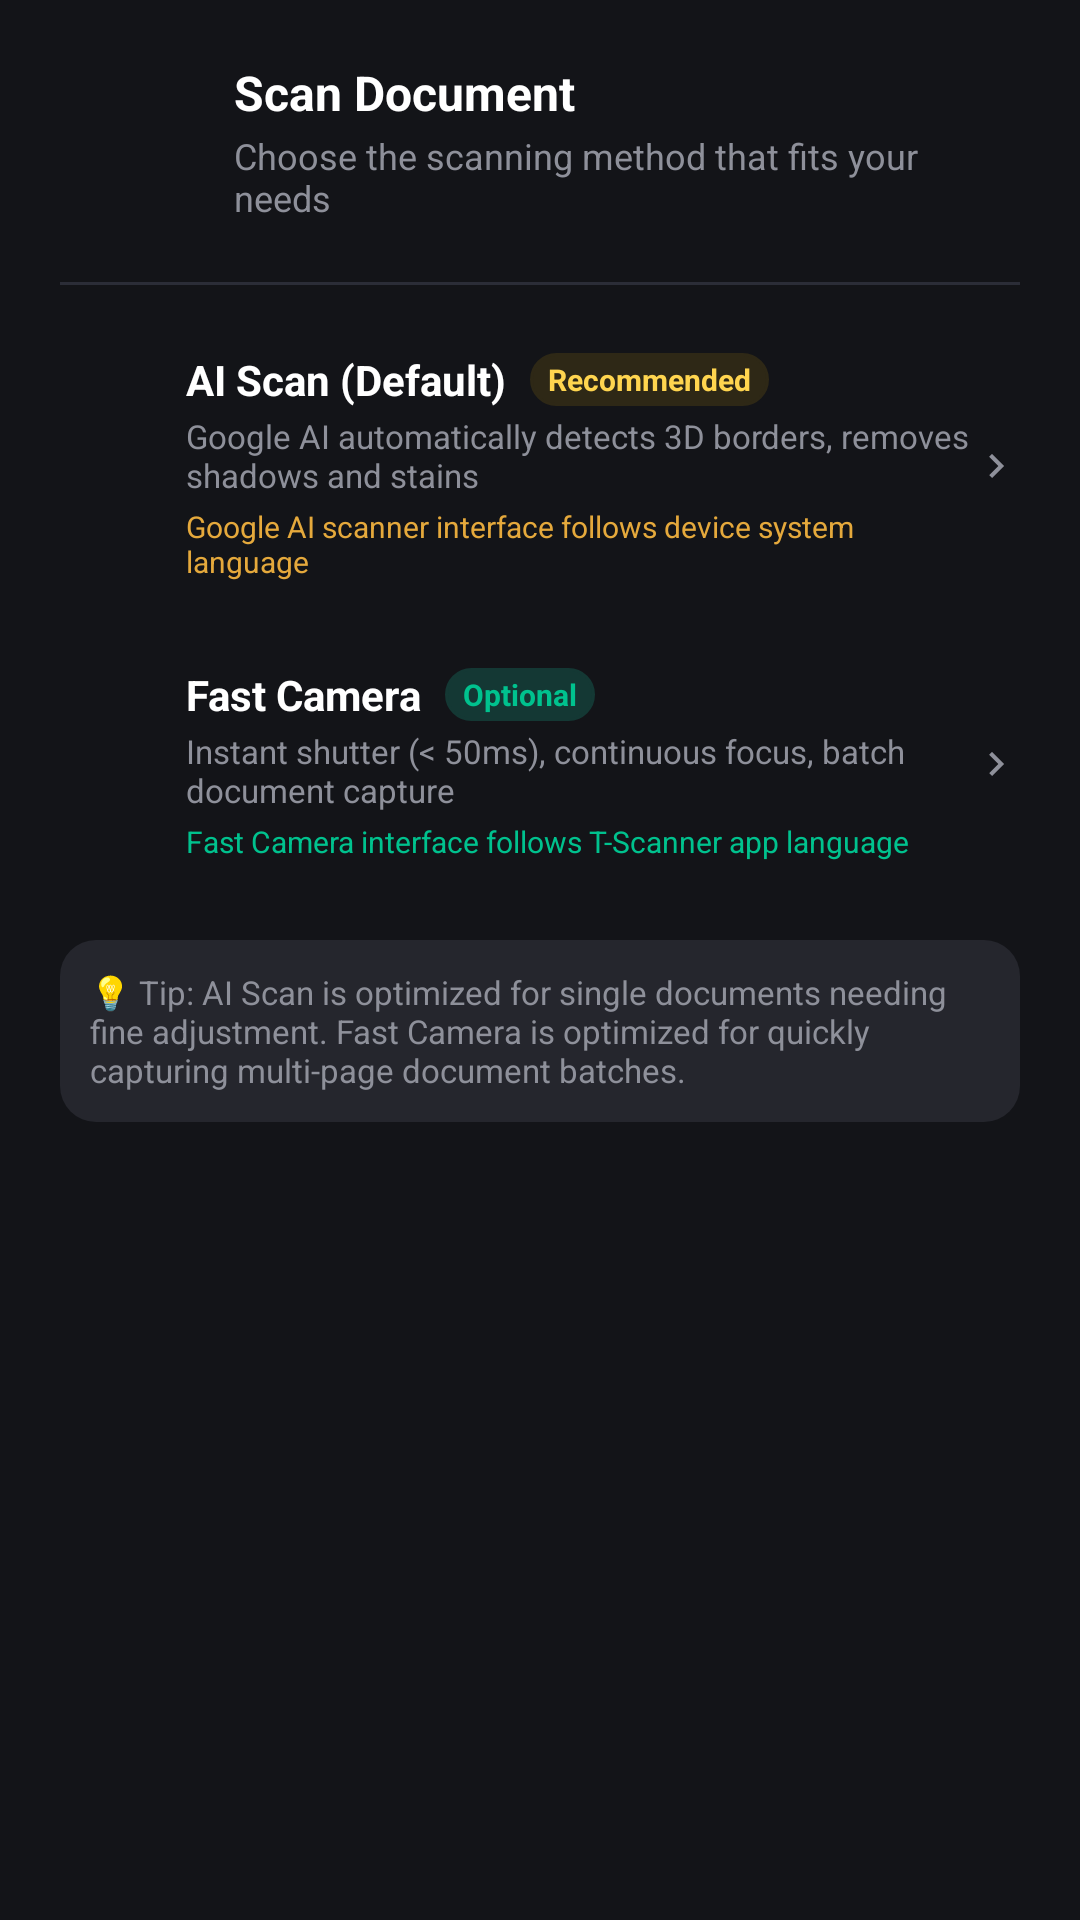

Screen size 1080x1920. Icon name, then its box in pixels as bbox(x1, y1, x2, y2):
chevron right: bbox(989, 454, 1004, 478), bbox(989, 752, 1004, 776)
